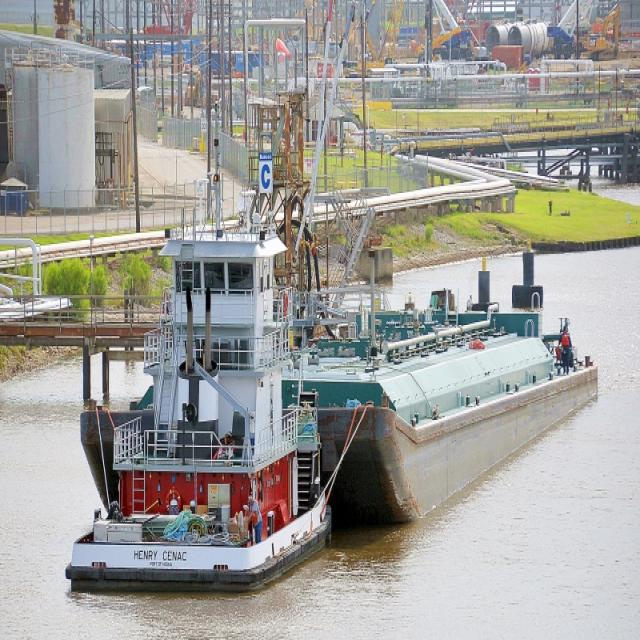tugboat: (61, 176, 341, 601)
